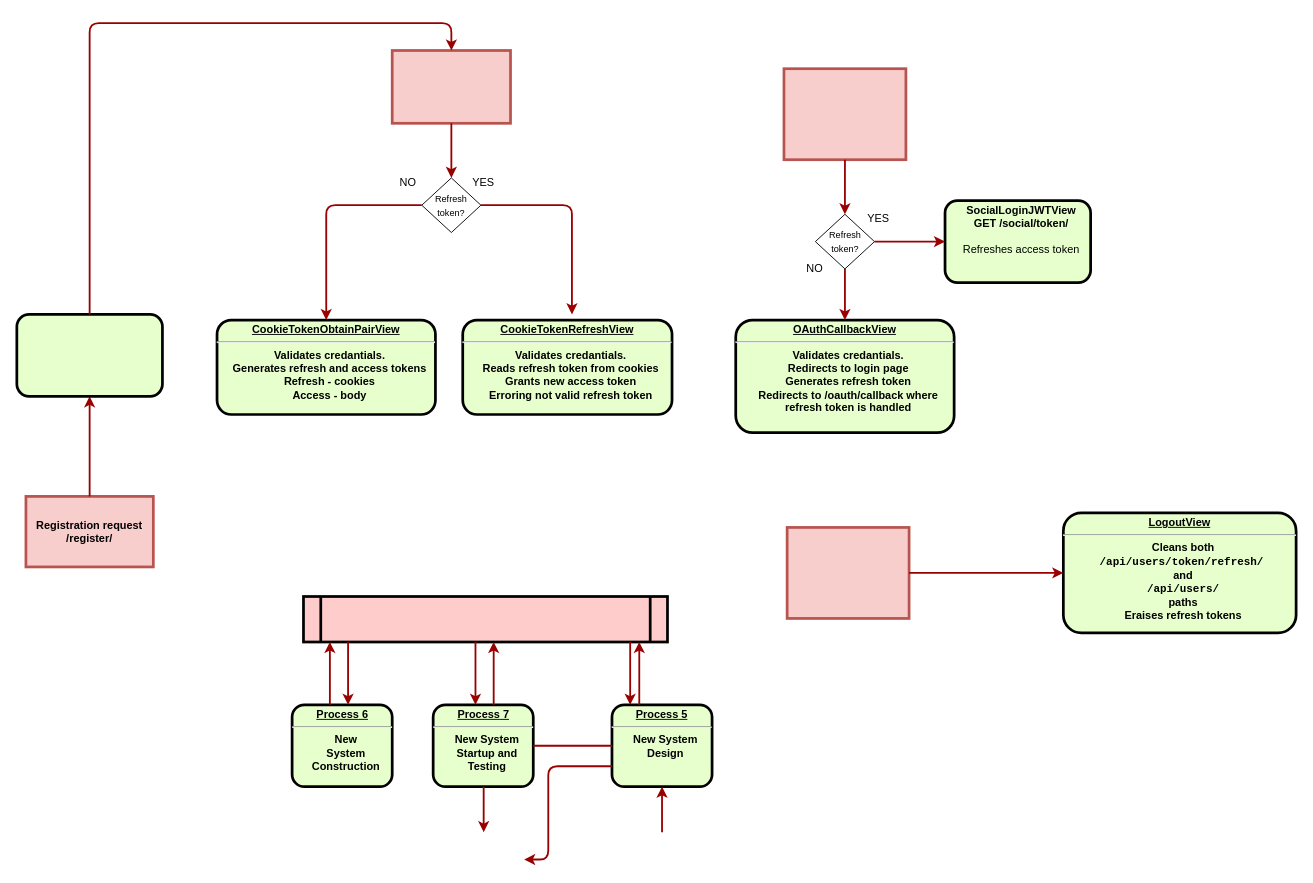
The diagram is 1313 pixels wide and 883 high, and some of its shapes have lost their labels. The centre of each missing label's shape, as x and y in pixels:
"Login with Oauth GET /oauth/callback/" goes at [844,114].
"Login with password /token/" goes at [450,86].
"Logout request" goes at [847,572].
"Oauth + JWT + React state" goes at [485,619].
"RegisterView Creates a db entry uses RegisterSerializer" goes at [89,355].
